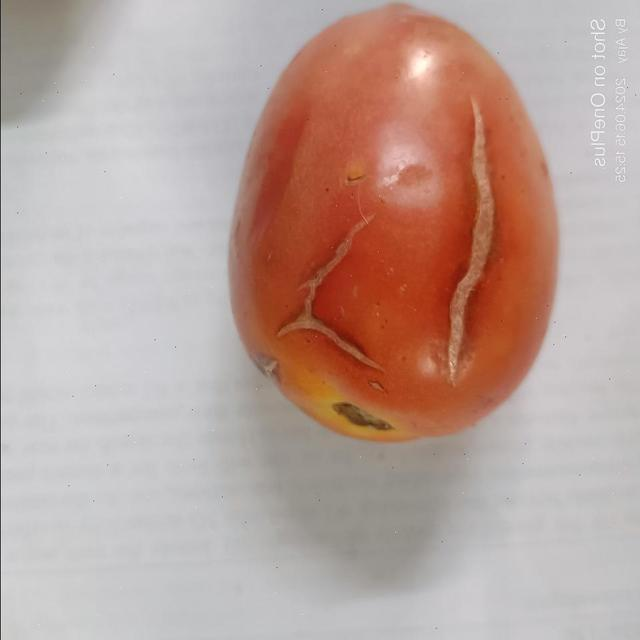Cracking Fruit: (213, 153, 317, 216)
